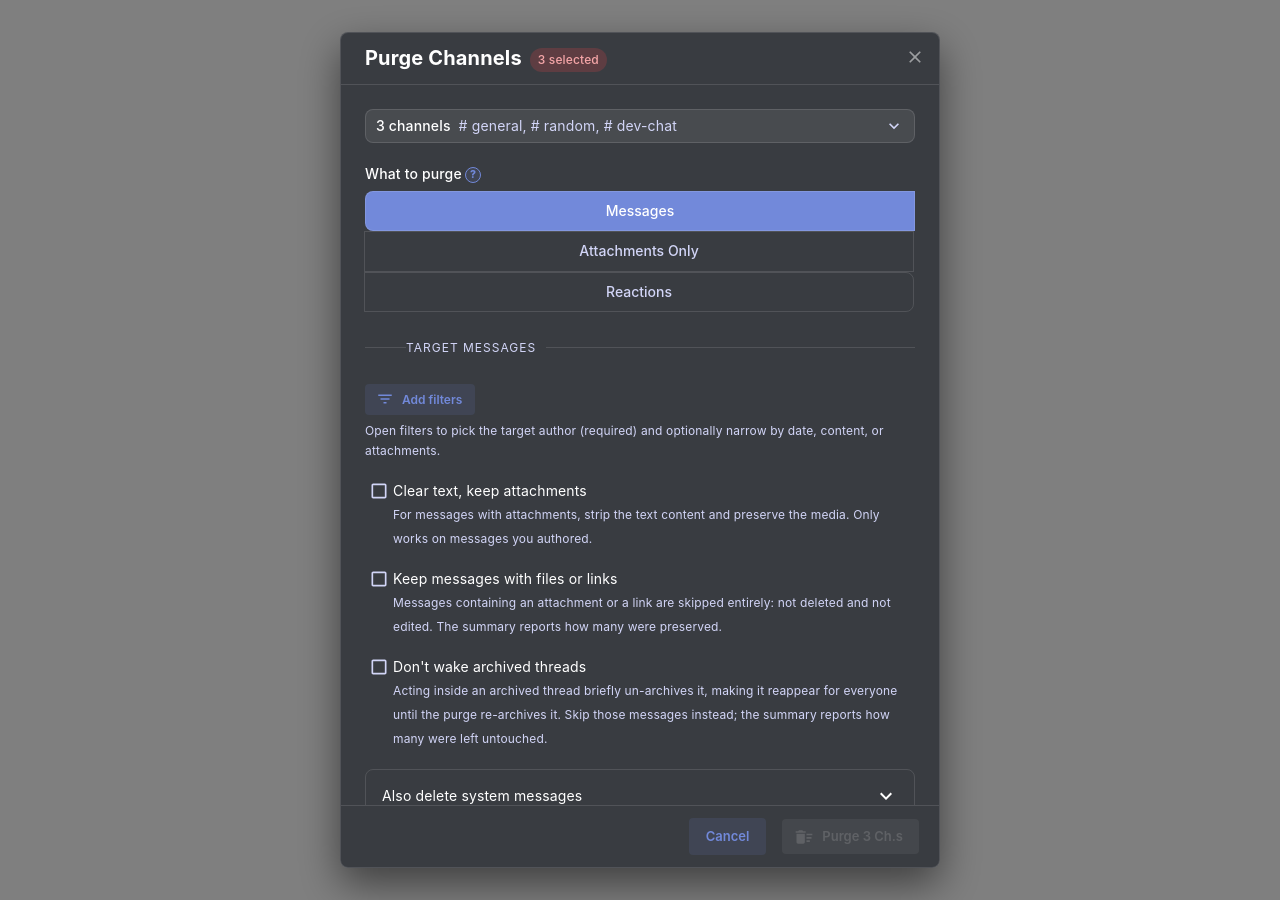
Test case: BulkPurgeDialog › Channel mode › hides Retain-media checkbox when Attachments Only mode is selected
Click the button "Attachments Only": x=639, y=251 top-left (364, 231), bottom-right (914, 272)
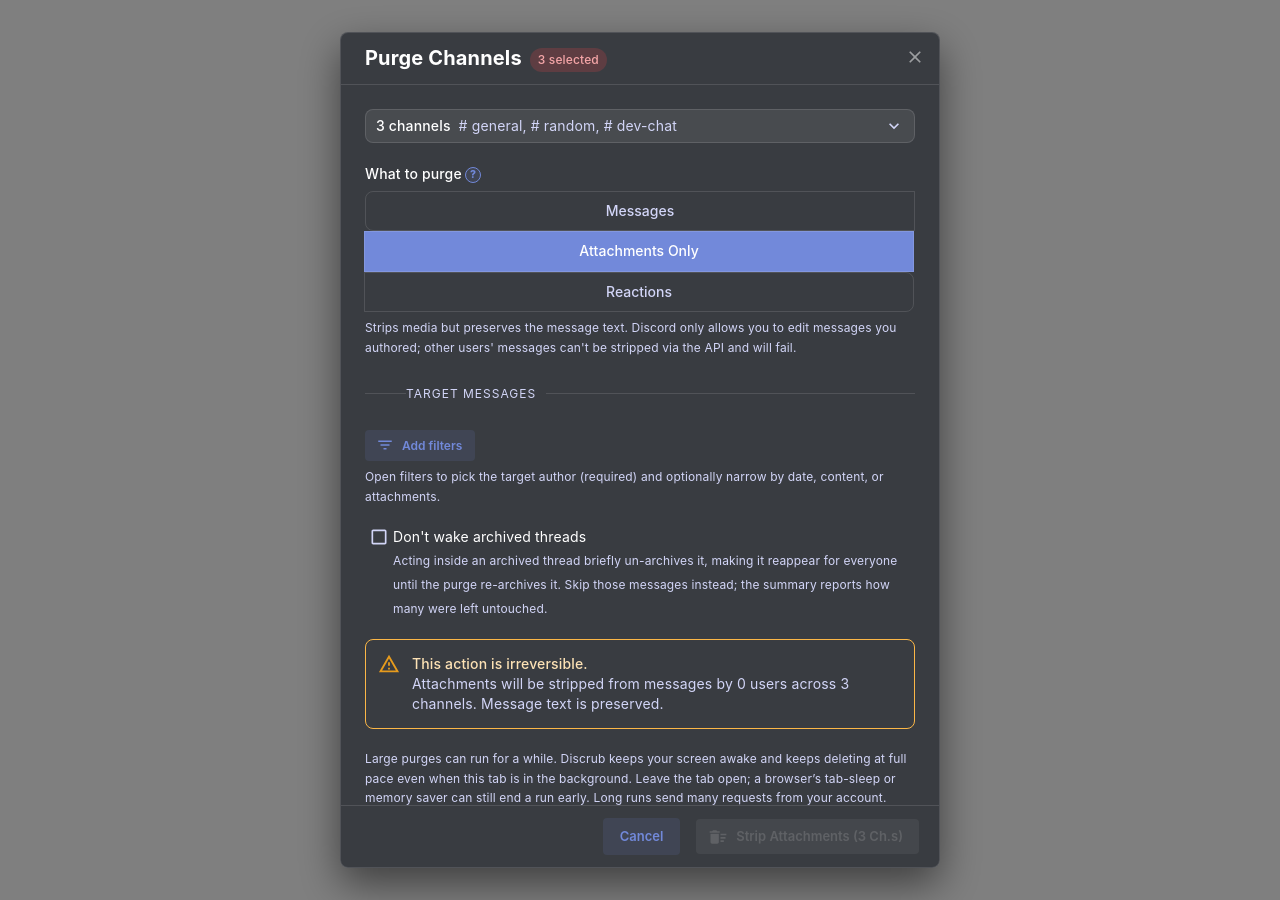
Expected: the text labelled "Clear text, keep attachments" is gone
